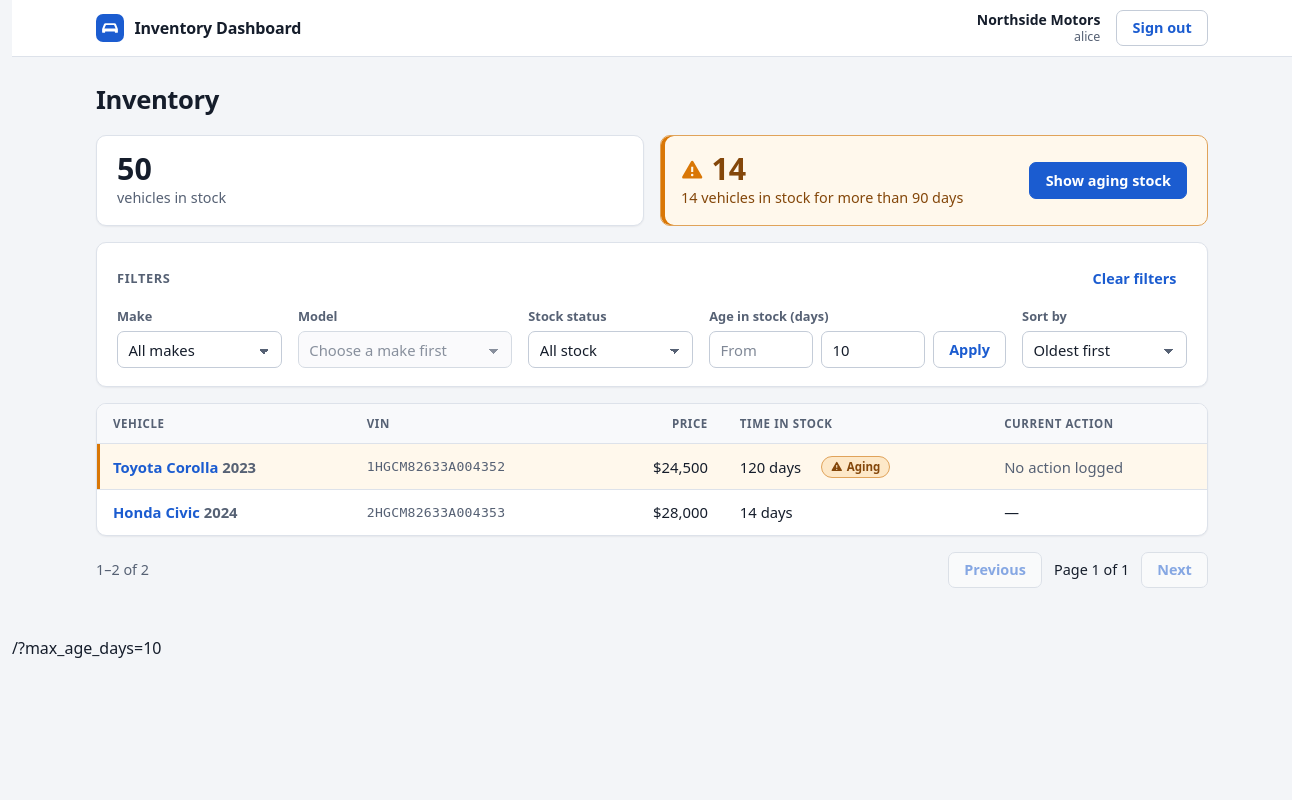
it: filtering › rejects a minimum above the maximum without searching
Expected: the link "Toyota Corolla" is shown, 113,457 -> 218,477
Type "50" into the field labelled "From" at (761, 350), box 709,331 -> 813,368
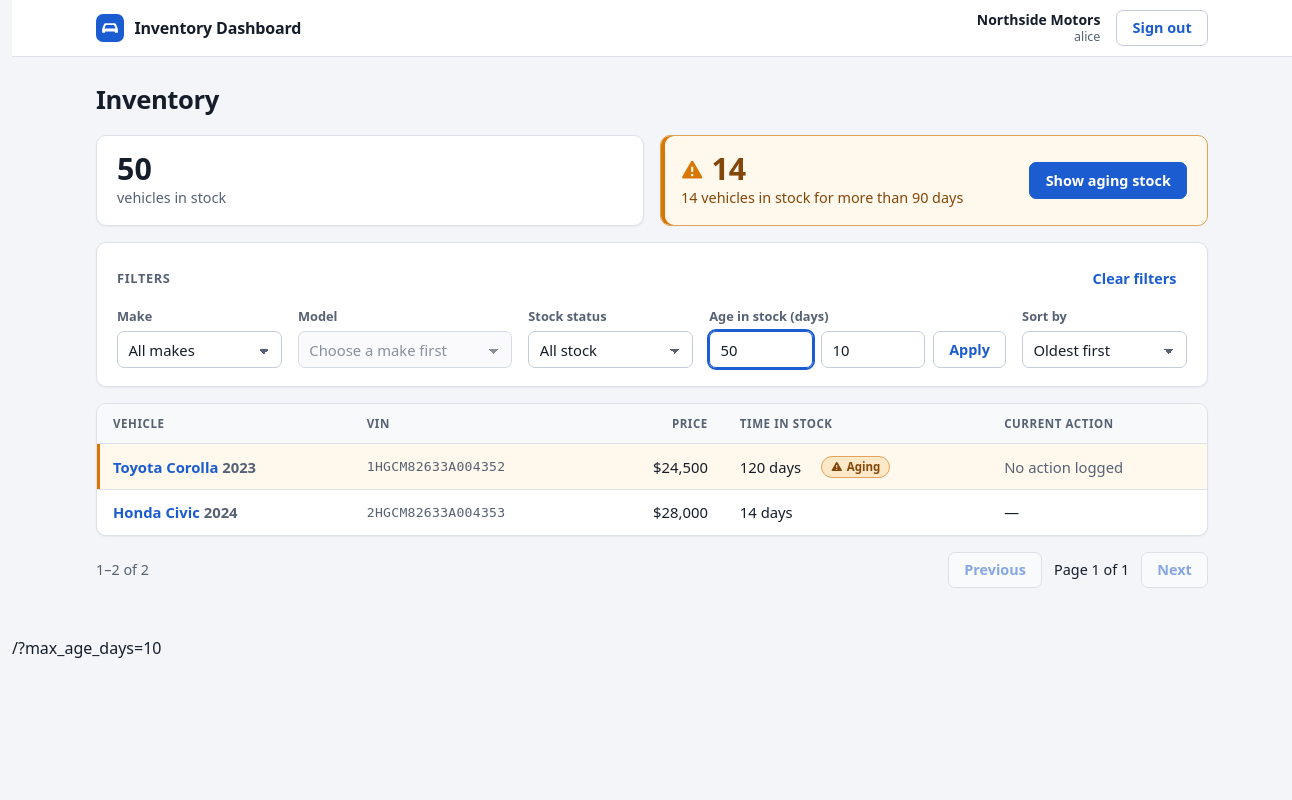
Press Tab
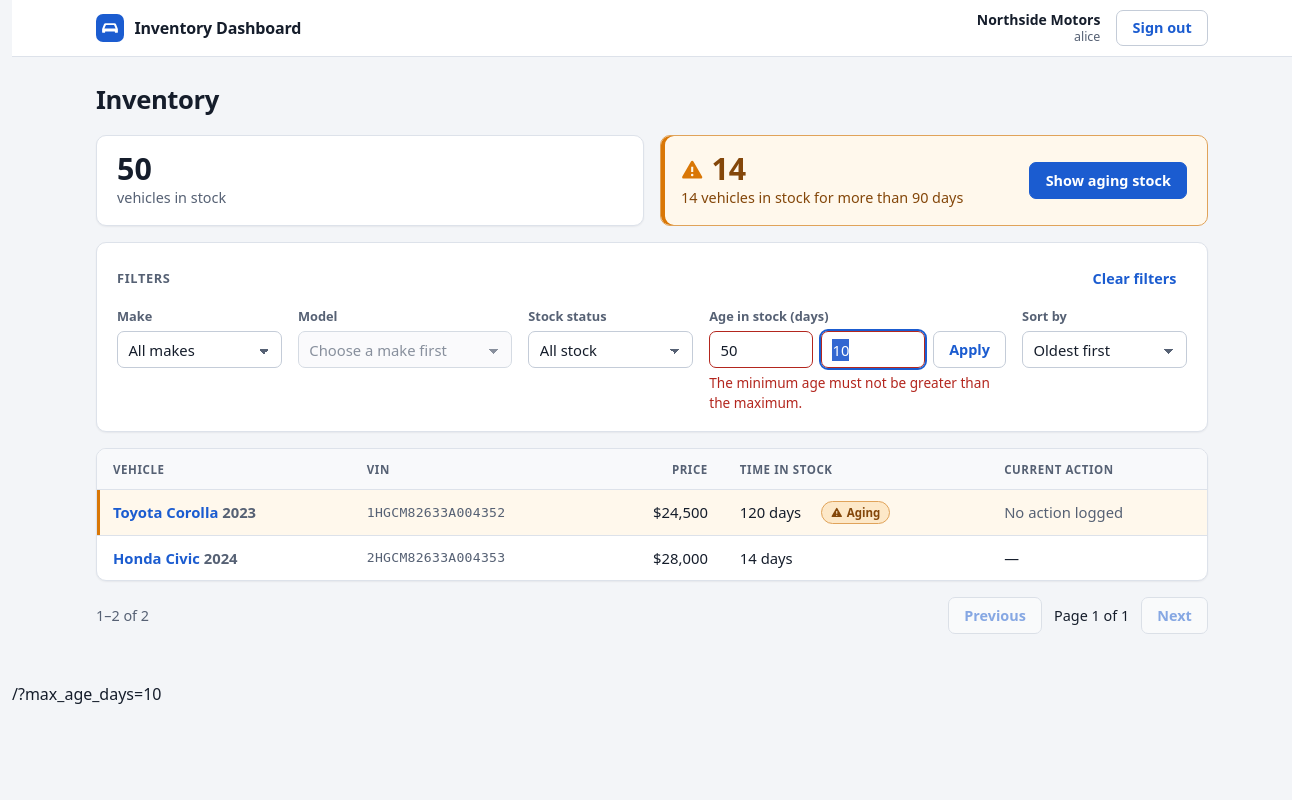
Expected: the text with test id "location" reads "/?max_age_days=10", 12,683 -> 162,705
Result: the message shows "minimum age must not be greater" at 709,373 -> 990,412
